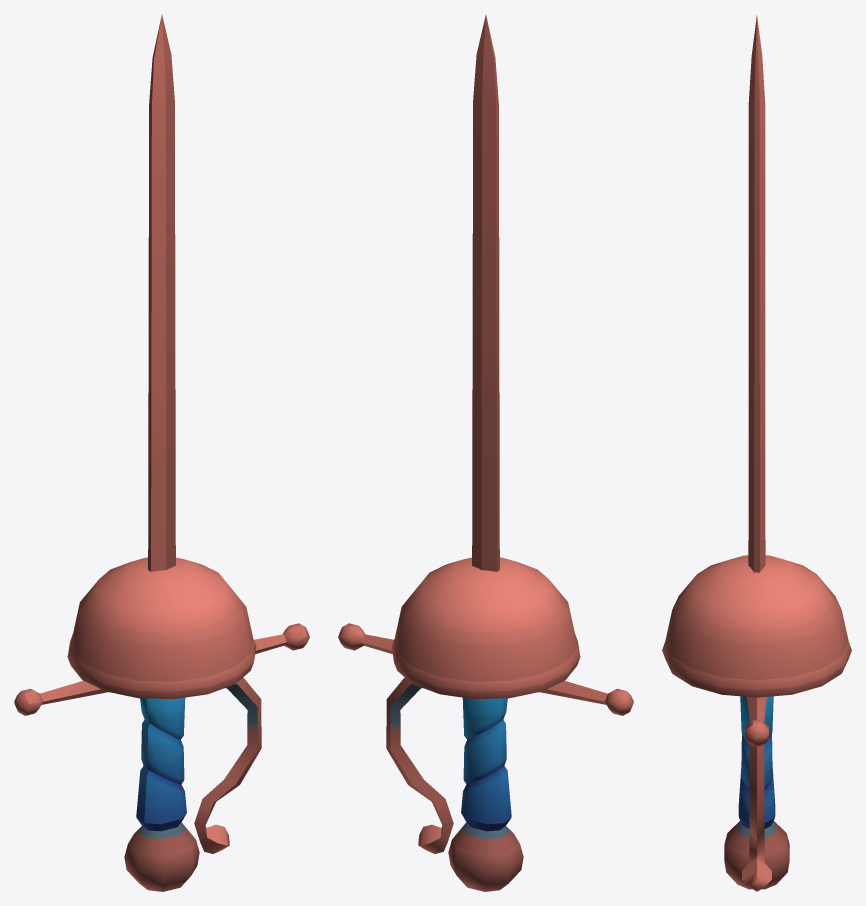
The model's file is kk_weapons_corail_epee.glb.
3 views of the same model, side by side, from view 1: azimuth 30°, elevation 25°; view 2: azimuth 150°, elevation 25°; view 3: azimuth 270°, elevation 25° (orthographic).
Visible parts, largest first — view 1: sword_D; view 2: sword_D; view 3: sword_D.
Boxes of the visible parts, <box> form: sword_D: <box>14,15,309,891</box>; sword_D: <box>338,15,633,891</box>; sword_D: <box>662,15,851,891</box>.
Bounding box in the file's own units: 0.7149 × 2.04 × 0.4016.
1 material, 1 textured.
